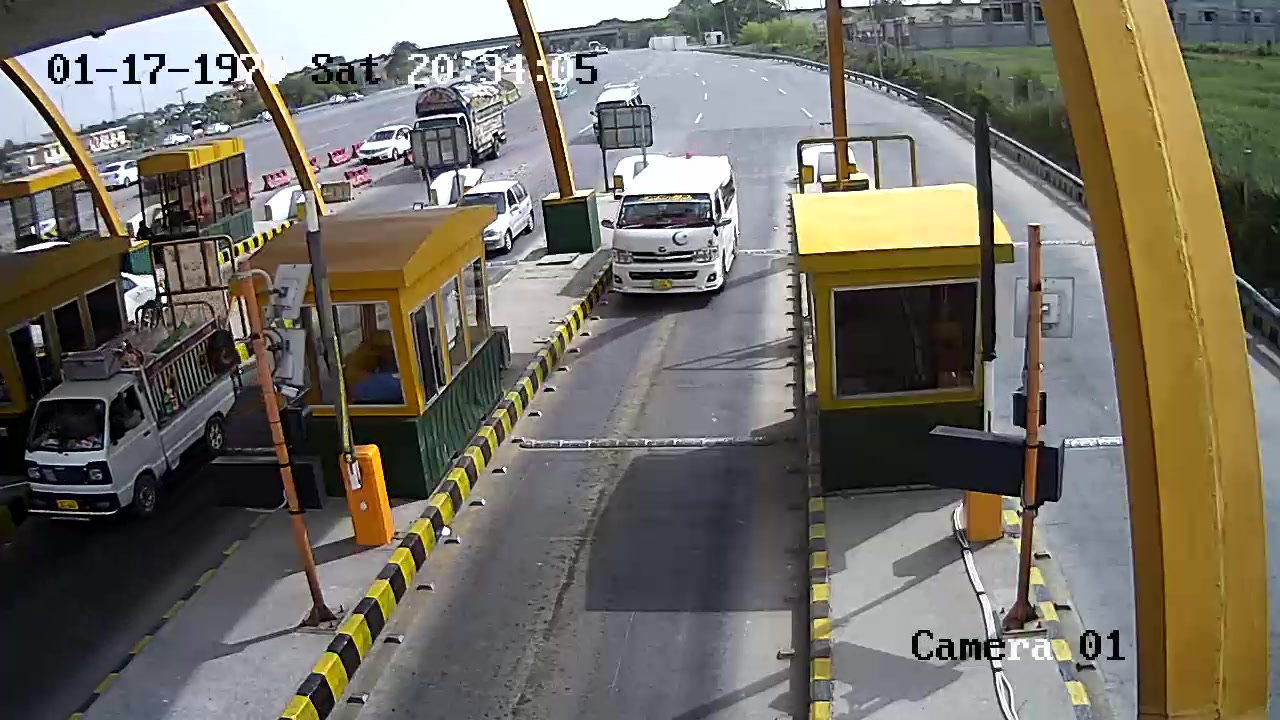F2: (608, 149, 751, 318)
